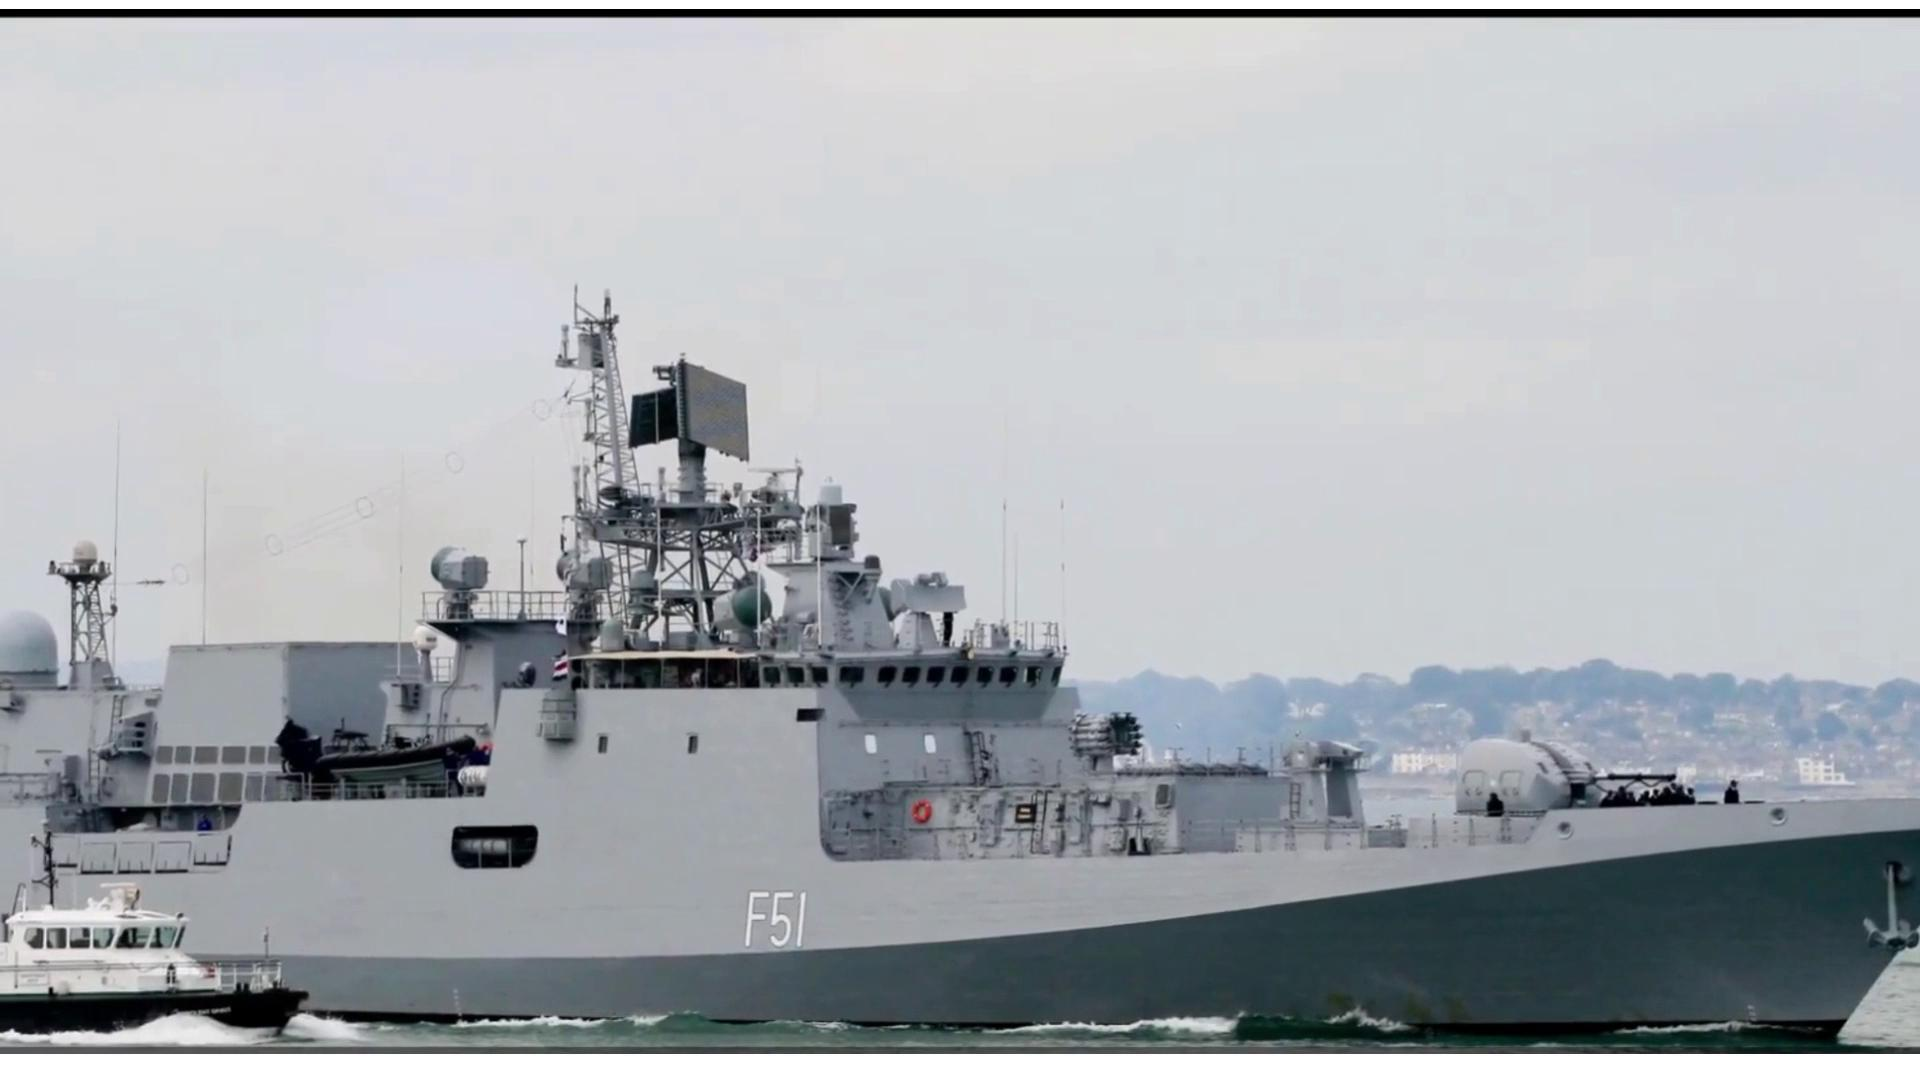OCR: (736, 877, 837, 965)
